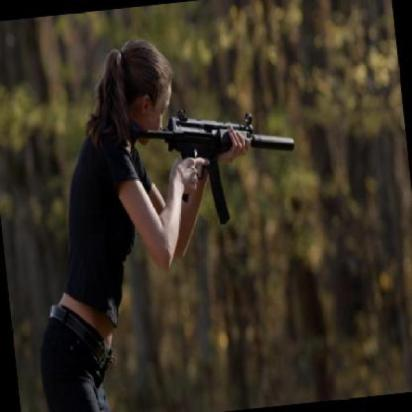Gun: (122, 82, 300, 242)
